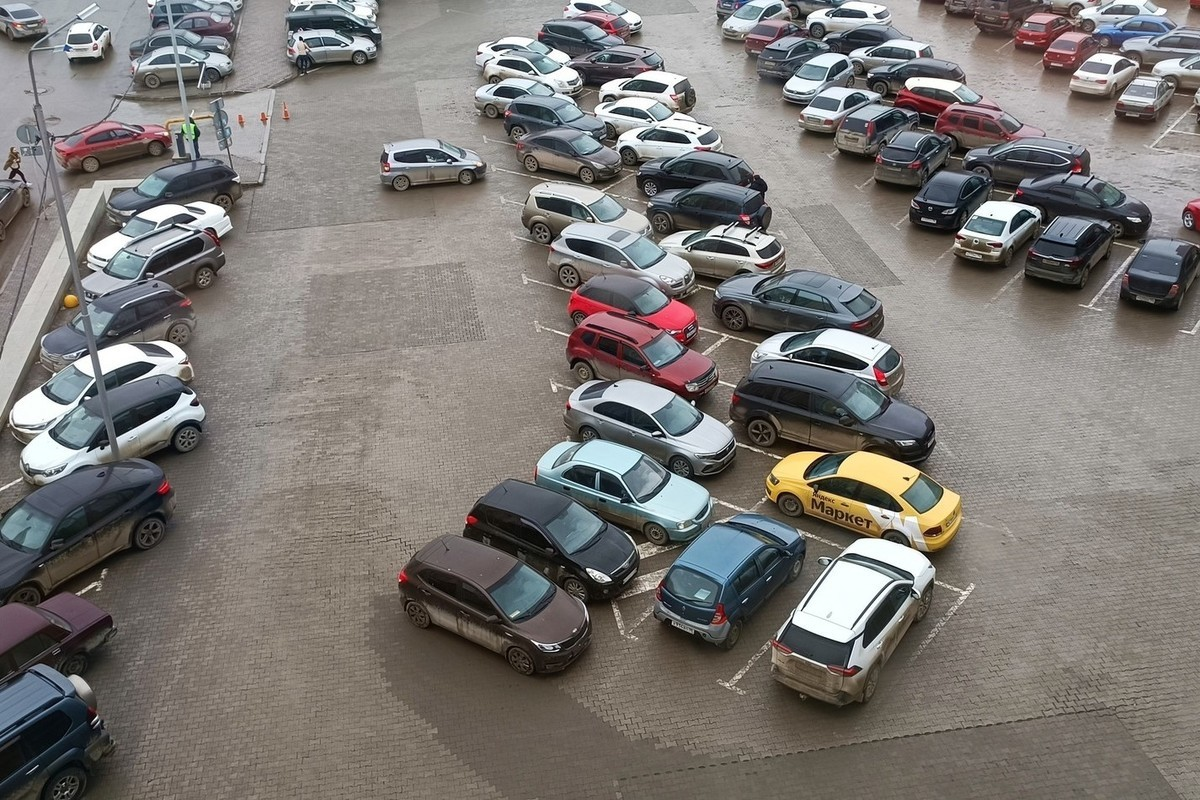Car: (770, 538, 936, 707), (397, 535, 592, 676), (0, 458, 175, 606), (464, 479, 640, 602), (730, 361, 936, 465), (18, 374, 207, 487), (655, 514, 806, 648), (8, 339, 195, 447), (764, 451, 962, 553), (535, 440, 714, 546), (565, 380, 737, 478), (0, 665, 114, 800), (39, 280, 197, 375), (566, 312, 719, 402), (713, 270, 884, 337), (80, 226, 226, 304), (547, 224, 695, 299), (86, 199, 233, 272), (0, 593, 116, 683), (749, 328, 905, 394), (567, 273, 699, 346), (107, 158, 241, 229), (1013, 173, 1152, 238), (521, 182, 653, 244), (659, 225, 786, 280), (1024, 215, 1115, 288), (647, 183, 772, 235), (962, 137, 1091, 187), (516, 128, 622, 185), (54, 121, 170, 173), (1119, 238, 1200, 311), (378, 138, 487, 192), (953, 201, 1042, 266), (636, 150, 755, 198), (934, 102, 1047, 151), (615, 118, 724, 166), (909, 171, 993, 232), (503, 94, 607, 143), (894, 77, 1000, 122), (832, 103, 919, 157), (482, 51, 583, 97), (874, 131, 953, 189), (130, 45, 234, 88), (594, 97, 697, 140), (474, 77, 579, 119), (598, 70, 696, 114), (564, 44, 665, 86), (797, 86, 882, 134), (866, 58, 967, 97), (782, 52, 855, 105), (537, 19, 626, 59), (286, 29, 377, 68), (756, 35, 830, 82), (286, 10, 382, 46), (1118, 27, 1200, 69), (805, 1, 892, 38), (129, 29, 232, 60), (1067, 54, 1139, 98), (819, 23, 913, 56), (848, 39, 934, 75), (475, 36, 571, 68), (1077, 0, 1168, 33), (973, 0, 1054, 36), (721, 0, 793, 40), (1090, 14, 1177, 47), (1114, 75, 1175, 121), (563, 0, 643, 35), (744, 19, 810, 58), (149, 0, 236, 29), (1042, 32, 1102, 72), (1014, 12, 1073, 51), (155, 11, 235, 36), (0, 179, 31, 243), (565, 11, 631, 41), (1150, 54, 1200, 92), (65, 21, 111, 62), (289, 0, 376, 21), (0, 3, 47, 41), (146, 0, 243, 14), (784, 0, 854, 19), (1048, 0, 1102, 18), (716, 0, 754, 19), (1181, 197, 1200, 234), (945, 0, 978, 17), (341, 0, 380, 14), (1194, 88, 1200, 106)
